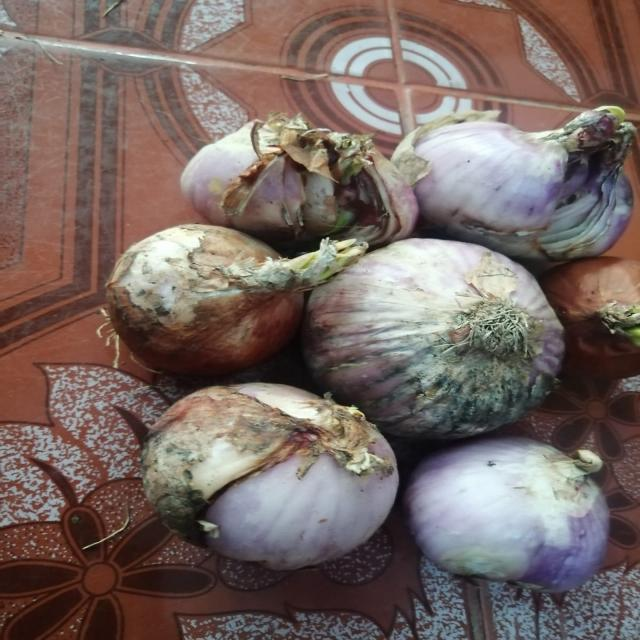rotten: (126, 426, 230, 554), (236, 140, 376, 228), (539, 184, 603, 248), (416, 388, 542, 413)
sprouting: (282, 249, 356, 287), (586, 108, 628, 146)
